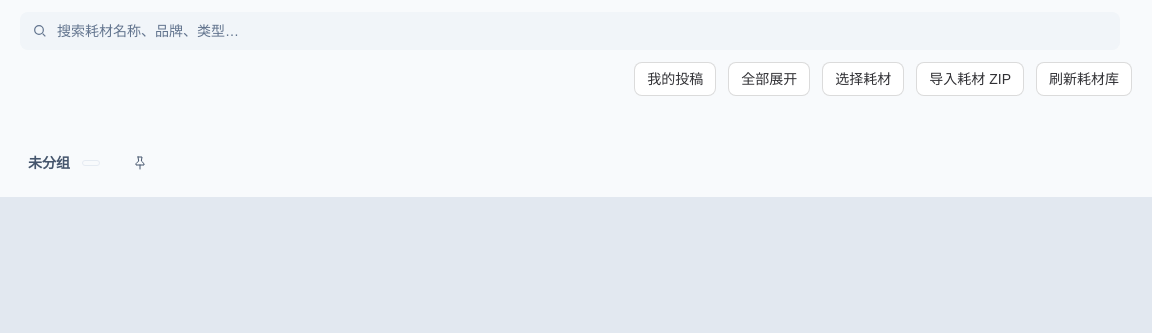
Test case: MaterialLibraryPanel › edits the display color via hex input from the library
The width and height of the screenshot is (1152, 333).
Later steps or results of the test are not shown.
Click the button with test id "material-library-brand-group-toggle". click: x=70, y=163
box: [20,145,120,181]
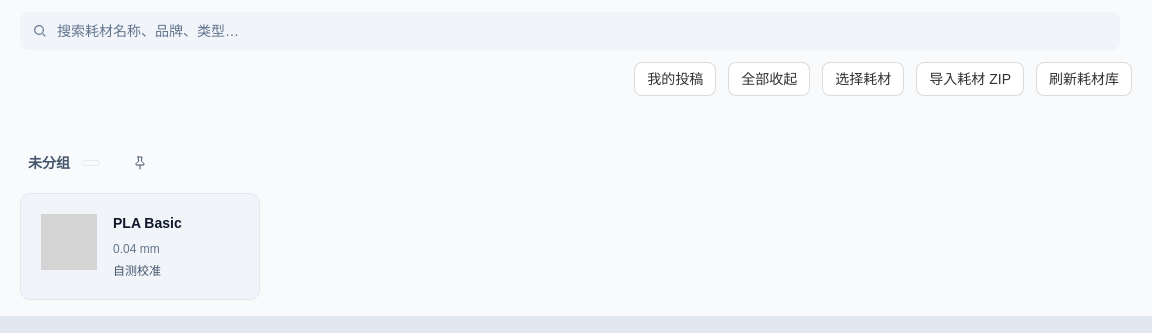
Result: the text "PLA Basic" is shown at [113,215,182,231]
